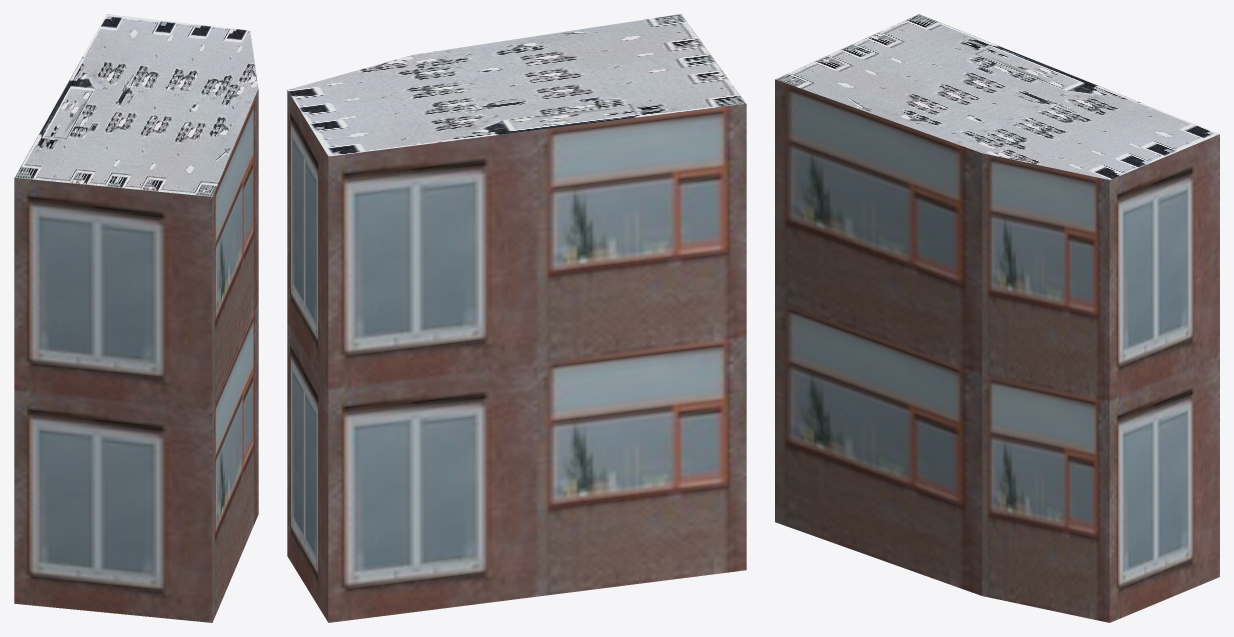
Rendered from ResTex__470.fbx.
The picture shows the model from 3 angles, left to right: view 1: azimuth 30°, elevation 25°; view 2: azimuth 150°, elevation 25°; view 3: azimuth 270°, elevation 25°; orthographic projection. The views are drawn at different scales.
Visible parts, largest first — view 1: CityEngineMaterial_19_m, CityEngineMaterial_15_m; view 2: CityEngineMaterial_19_m, CityEngineMaterial_15_m; view 3: CityEngineMaterial_19_m, CityEngineMaterial_15_m.
Part boxes in pixels (left/top/right/bottom): CityEngineMaterial_19_m: left=14, top=89, right=258, bottom=622; CityEngineMaterial_15_m: left=14, top=14, right=258, bottom=196; CityEngineMaterial_19_m: left=287, top=90, right=746, bottom=622; CityEngineMaterial_15_m: left=287, top=14, right=746, bottom=156; CityEngineMaterial_19_m: left=775, top=79, right=1219, bottom=622; CityEngineMaterial_15_m: left=775, top=14, right=1219, bottom=179.
Bounding box in the file's own units: 4.83 × 6 × 5.46.
2 materials, 2 textured.
